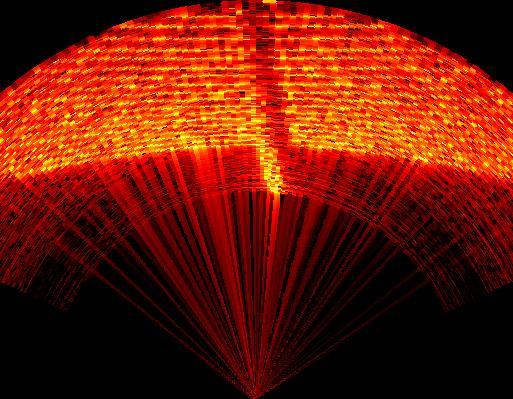pipe: (230, 3, 301, 197)
